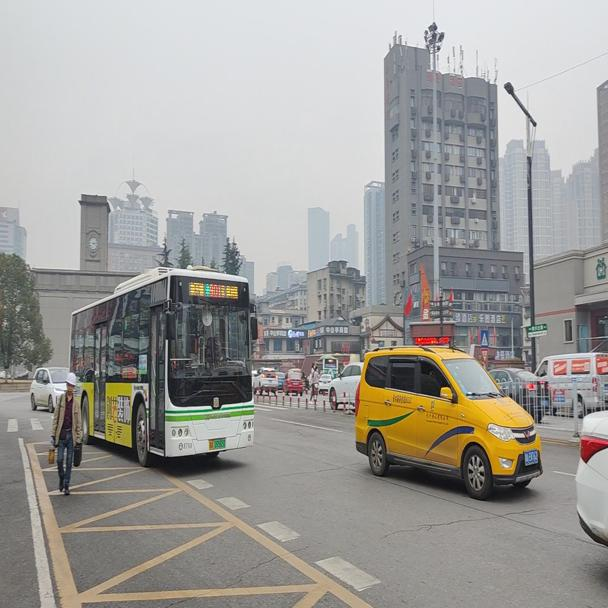bus: (67, 264, 259, 465)
screen: (209, 282, 221, 296)
